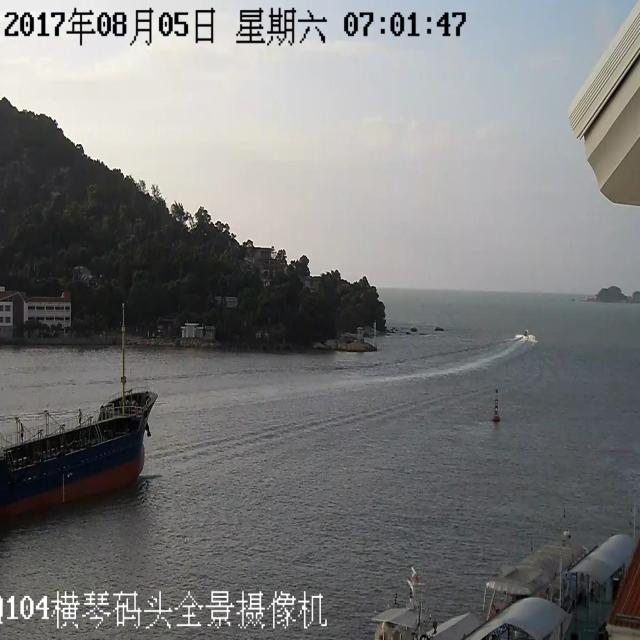fishing boat: (0, 351, 160, 493)
